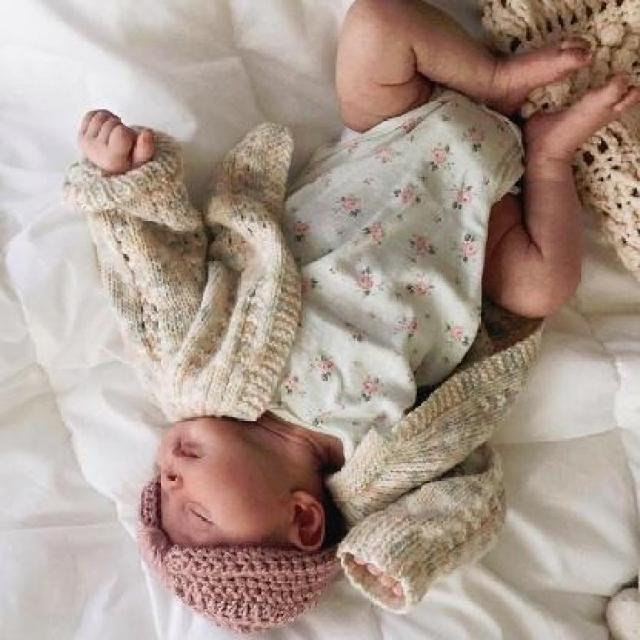baby: (74, 11, 636, 637)
